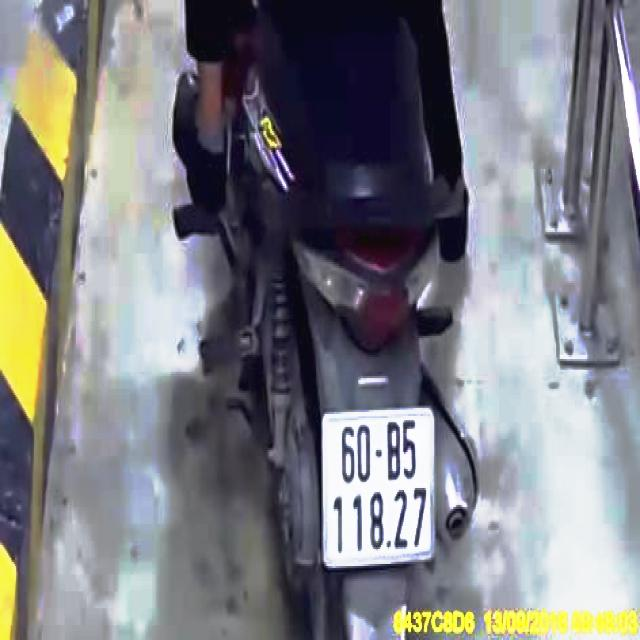license_plate: (322, 411, 436, 568)
